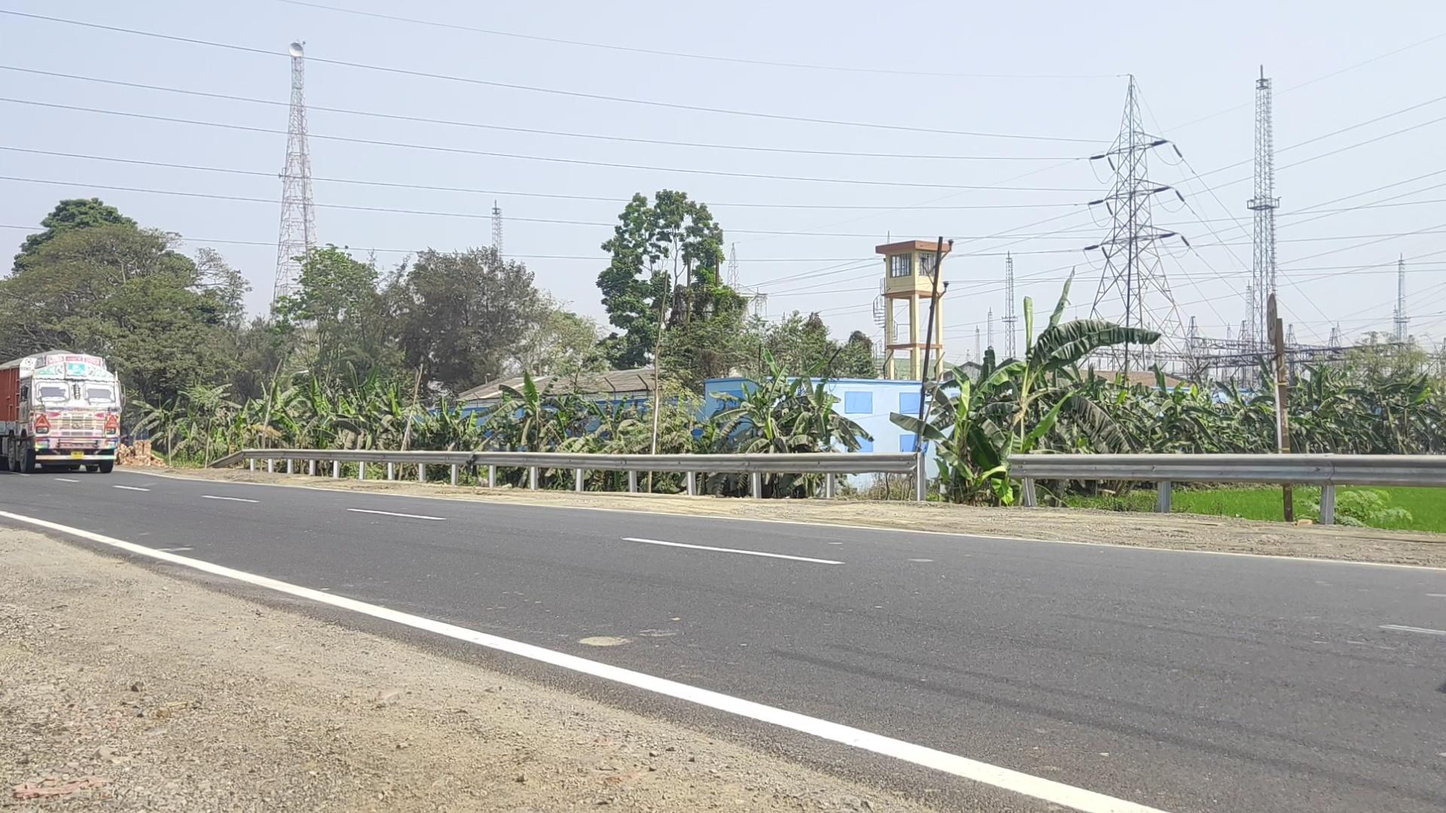truck: (1, 351, 122, 474)
